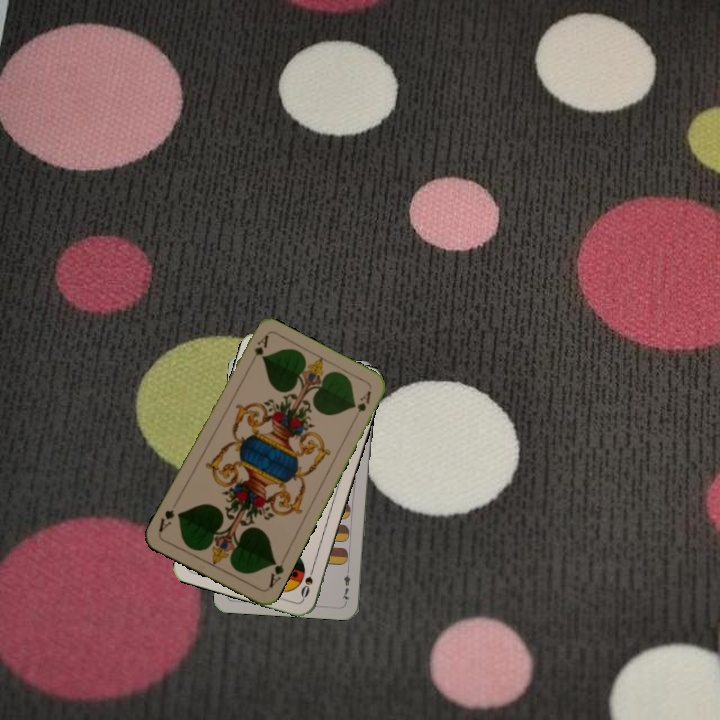E7: (338, 563, 353, 604)
GA: (245, 331, 271, 369), (265, 556, 286, 590)
SO: (297, 562, 317, 601)
